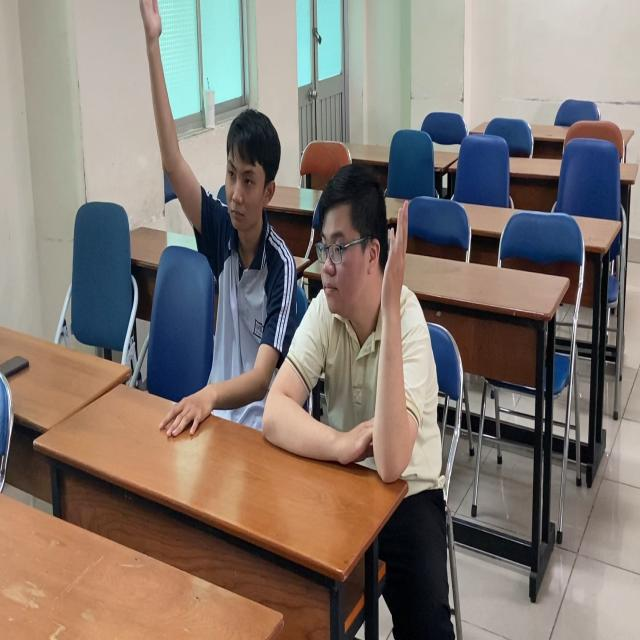raise_hand: (131, 1, 293, 443), (295, 169, 446, 472)
